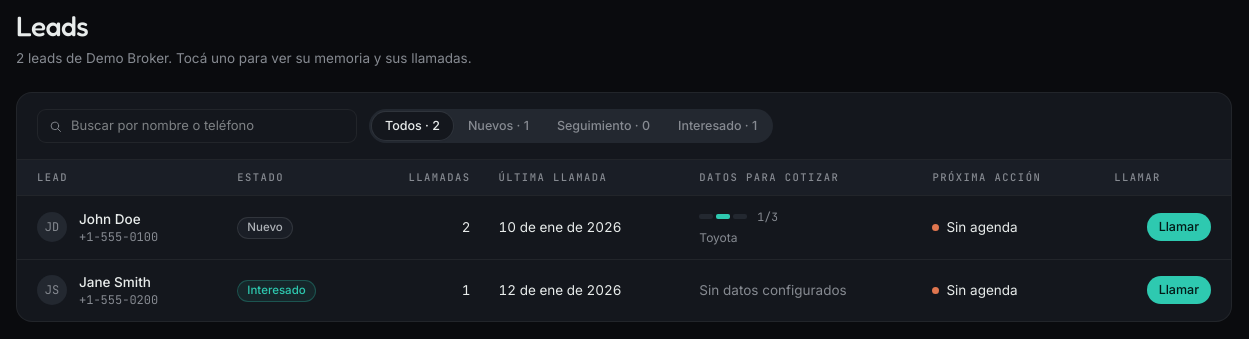
Test case: LeadsPage — search (accent-insensitive) and ?q= from URL › filters by name accent-insensitively
Expected: the text "John Doe" is shown, [79,211,141,227]
Type "jóhn" into the field with placeholder "Buscar por nombre o teléfono" at point(208, 126), box [71,116,346,136]
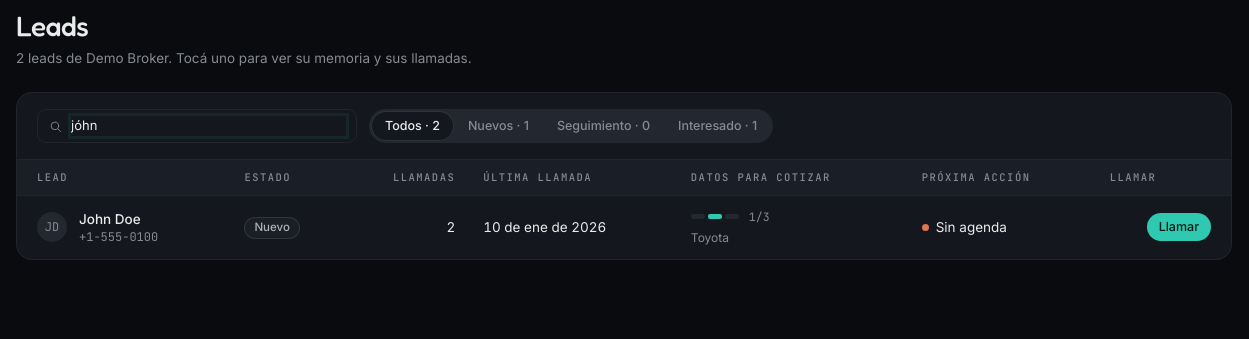
Expected: the text "John Doe" is shown, [79,211,141,227]
Expected: the text "Jane Smith" is gone
